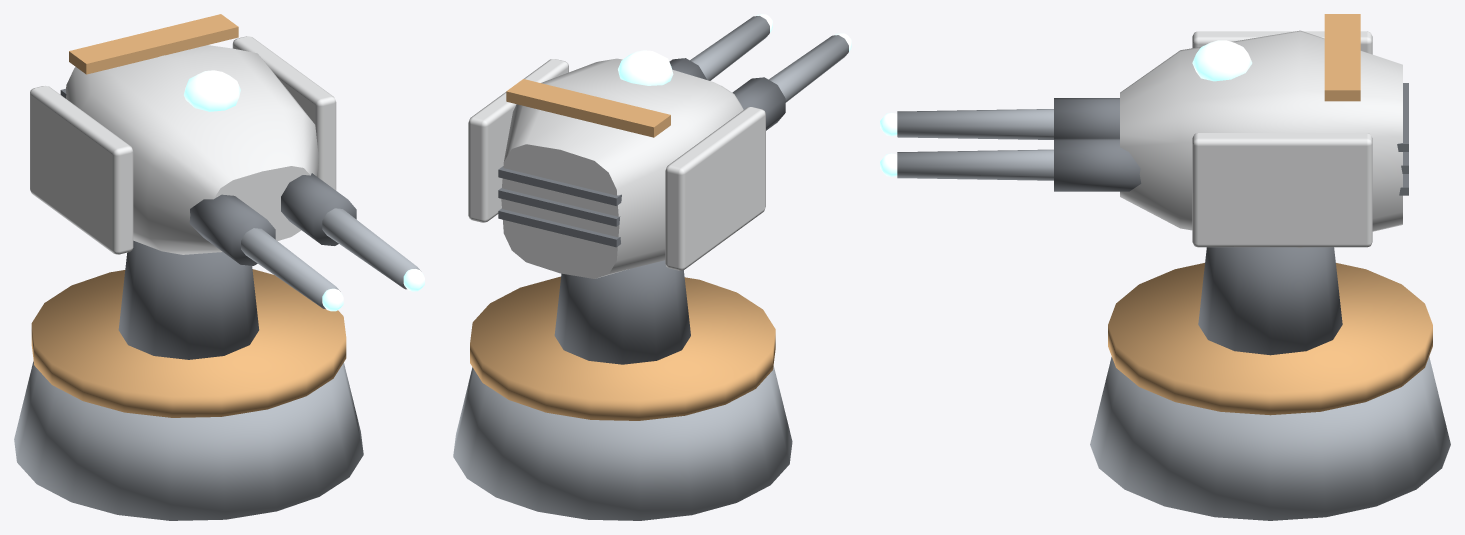
Rendered from h_turret.glb.
3 renders of one model, left to right at view 1: azimuth 30°, elevation 25°; view 2: azimuth 150°, elevation 25°; view 3: azimuth 270°, elevation 25°, orthographic. The views are drawn at different scales.
Visible parts, largest first — view 1: metal, shell, paint, glow; view 2: metal, shell, paint, glow; view 3: metal, shell, paint, glow.
Boxes of the visible parts, x1,y1,x2,y2 form: metal: [14, 88, 421, 520]; shell: [30, 36, 336, 254]; paint: [31, 14, 346, 417]; glow: [184, 70, 424, 311]; metal: [453, 16, 848, 520]; shell: [468, 58, 765, 278]; paint: [470, 79, 775, 420]; glow: [618, 14, 851, 85]; metal: [897, 83, 1450, 520]; shell: [1120, 30, 1402, 247]; paint: [1108, 14, 1432, 415]; glow: [880, 40, 1252, 176].
Size of what is drawn, in the model's own units: 0.6 by 0.735 by 0.949.
